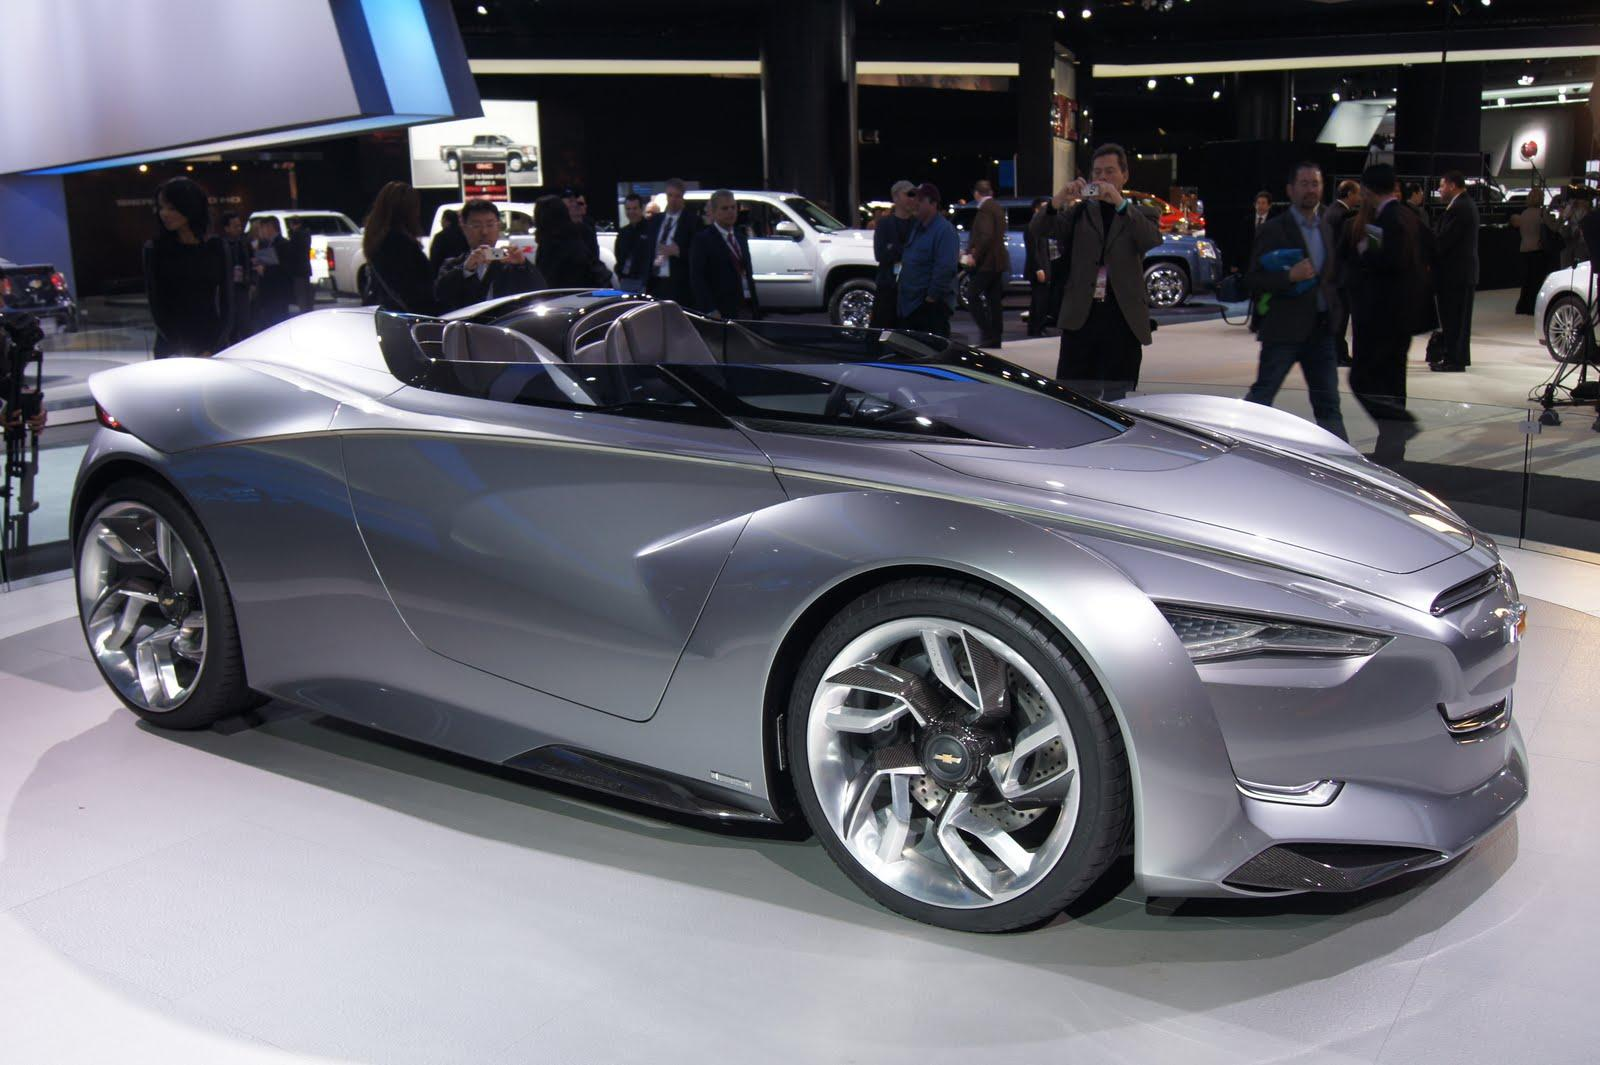small: (67, 286, 1531, 935)
